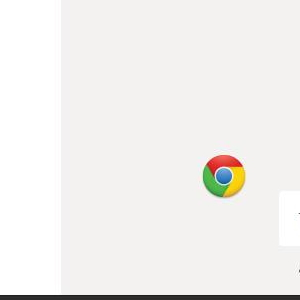chrome: (202, 154, 246, 198)
